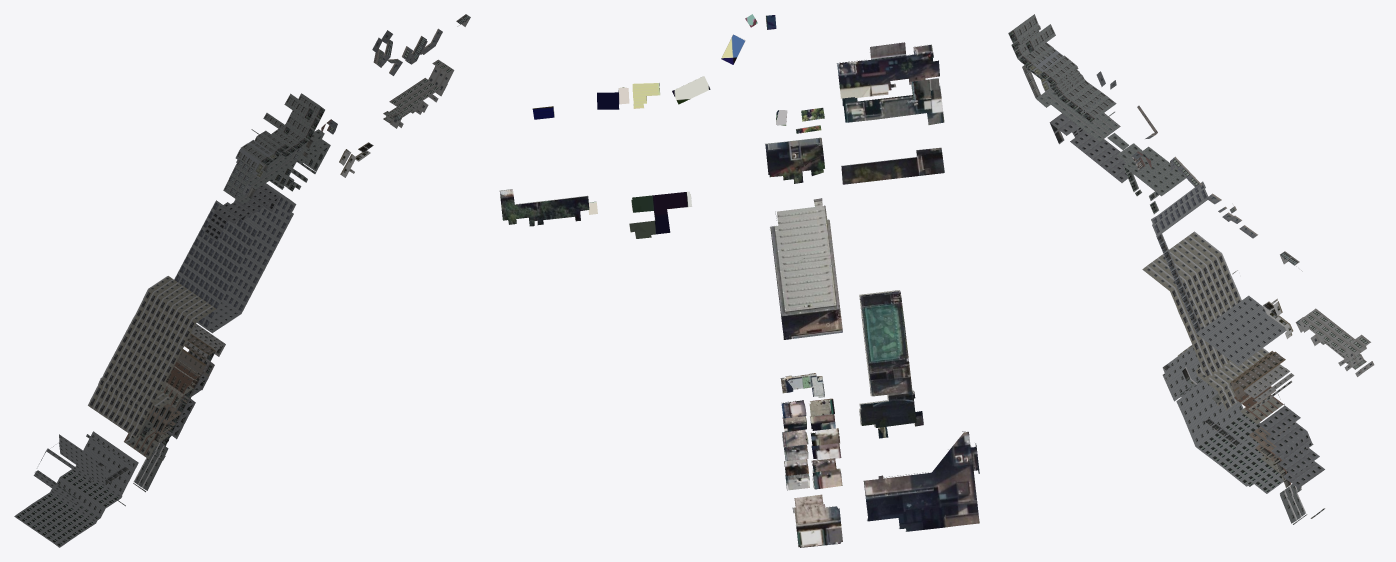
The model's file is tile_LOD8_r3_c3.glb.
3 renders of one model, left to right at view 1: azimuth 30°, elevation 25°; view 2: azimuth 150°, elevation 25°; view 3: azimuth 270°, elevation 25°, orthographic. The views are drawn at different scales.
Size of the model in its own units: 293 by 284 by 175.
Materials: 129 (129 with a texture image).
